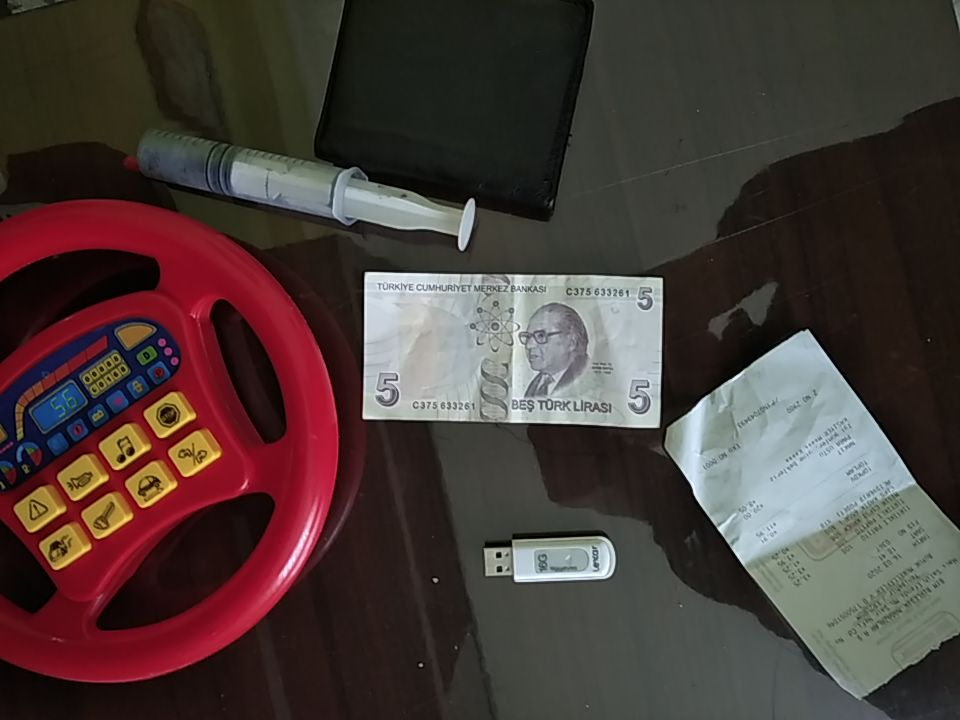5TL: (360, 270, 664, 431)
